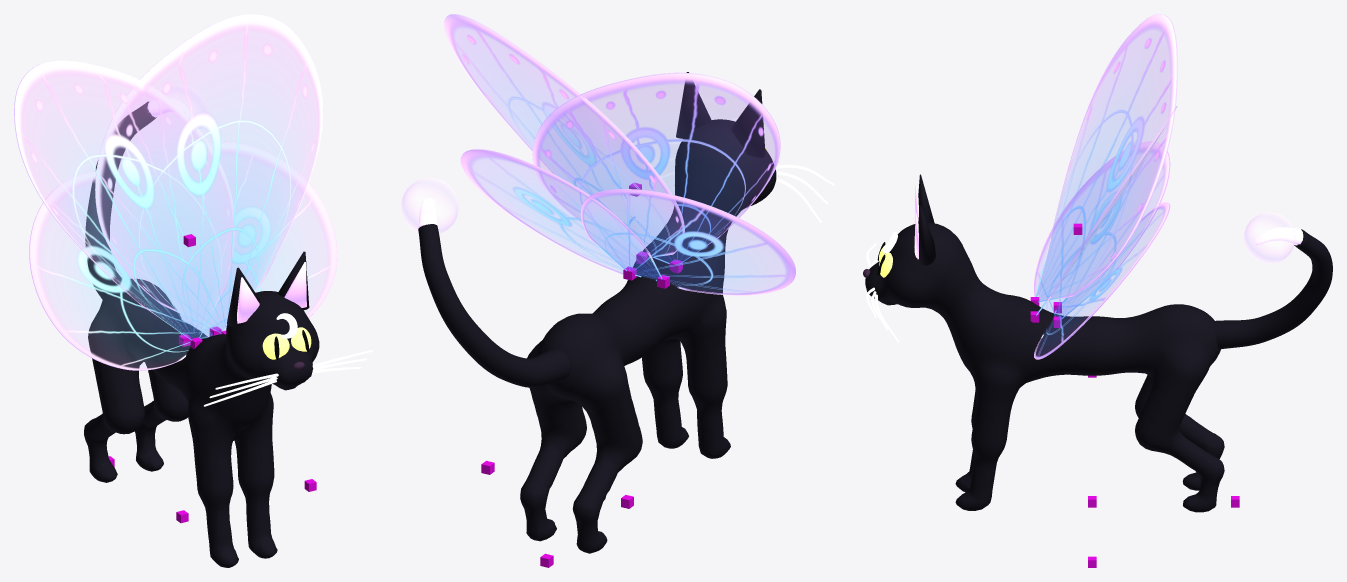
Rendered from 02_gattoluna.glb.
3 views of the same model, side by side, from view 1: azimuth 30°, elevation 25°; view 2: azimuth 150°, elevation 25°; view 3: azimuth 270°, elevation 25° (orthographic). The views are drawn at different scales.
Parts seen in each view (by area): view 1: Gatto__Ala_Luce__AlaAnt_R, Gatto__Ala_Luce__AlaAnt_L, Gatto__Pelo_Notte, Gatto__Ala_Luce_Post__AlaPost_R, Gatto__Ala_Luce_Post__AlaPost_L, Gatto__Orecchio_Interno, Gatto__Baffi_Luce, Gatto__Iride, Gatto__Aura_Coda; view 2: Gatto__Pelo_Notte, Gatto__Ala_Luce__AlaAnt_L, Gatto__Ala_Luce__AlaAnt_R, Gatto__Ala_Luce_Post__AlaPost_R, Gatto__Ala_Luce_Post__AlaPost_L, Gatto__Aura_Coda, Gatto__Baffi_Luce; view 3: Gatto__Pelo_Notte, Gatto__Ala_Luce__AlaAnt_L, Gatto__Ala_Luce_Post__AlaPost_R, Gatto__Ala_Luce_Post__AlaPost_L, Gatto__Aura_Coda, Gatto__Ala_Luce__AlaAnt_R, Gatto__Coda_Luce.
Boxes of the visible parts, x1,y1,x2,y2 form: Gatto__Ala_Luce__AlaAnt_R: (95,14,323,333); Gatto__Ala_Luce__AlaAnt_L: (14,60,235,340); Gatto__Pelo_Notte: (84,101,319,567); Gatto__Ala_Luce_Post__AlaPost_R: (29,171,211,370); Gatto__Ala_Luce_Post__AlaPost_L: (180,141,337,338); Gatto__Orecchio_Interno: (237,262,306,323); Gatto__Baffi_Luce: (204,350,372,406); Gatto__Iride: (262,327,311,359); Gatto__Aura_Coda: (162,84,206,128); Gatto__Pelo_Notte: (418,72,776,553); Gatto__Ala_Luce__AlaAnt_L: (532,72,780,263); Gatto__Ala_Luce__AlaAnt_R: (444,14,684,257); Gatto__Ala_Luce_Post__AlaPost_R: (580,189,795,295); Gatto__Ala_Luce_Post__AlaPost_L: (460,149,662,280); Gatto__Aura_Coda: (401,178,458,233); Gatto__Baffi_Luce: (651,141,834,222); Gatto__Pelo_Notte: (865,174,1332,512); Gatto__Ala_Luce__AlaAnt_L: (1036,14,1177,302); Gatto__Ala_Luce_Post__AlaPost_R: (1034,141,1170,318); Gatto__Ala_Luce_Post__AlaPost_L: (1034,202,1170,359); Gatto__Aura_Coda: (1244,212,1295,263); Gatto__Ala_Luce__AlaAnt_R: (1036,106,1177,315); Gatto__Coda_Luce: (1254,227,1303,245).
Size of the model in its own units: 3.5 by 5.06 by 4.93.
12 materials, 2 textured.
